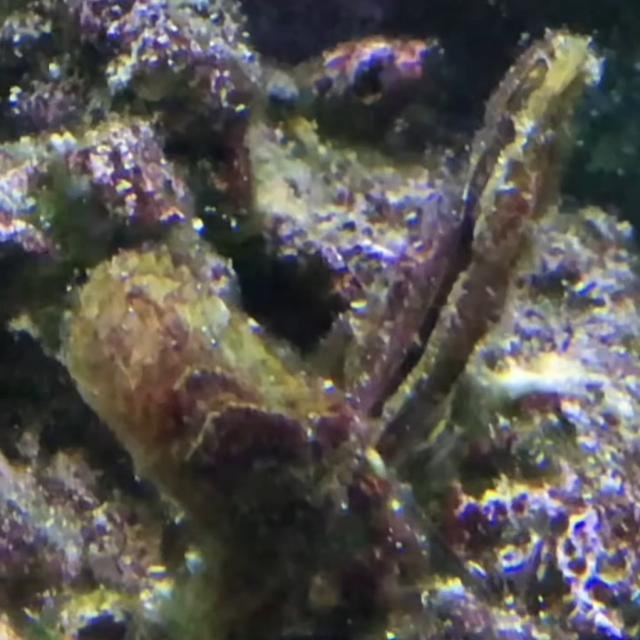Oyster-Closed: (309, 30, 602, 469)
Oyster-Indeterminate: (65, 253, 401, 601)
